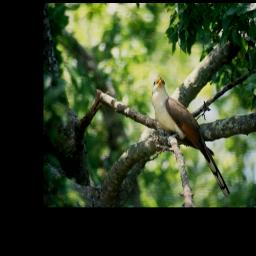Cuckoo: (150, 74, 233, 199)
